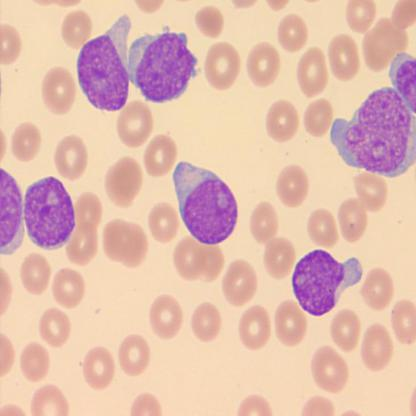Blast: (126, 23, 202, 105), (170, 158, 240, 246), (74, 13, 134, 114), (289, 246, 365, 319), (22, 173, 76, 252)
